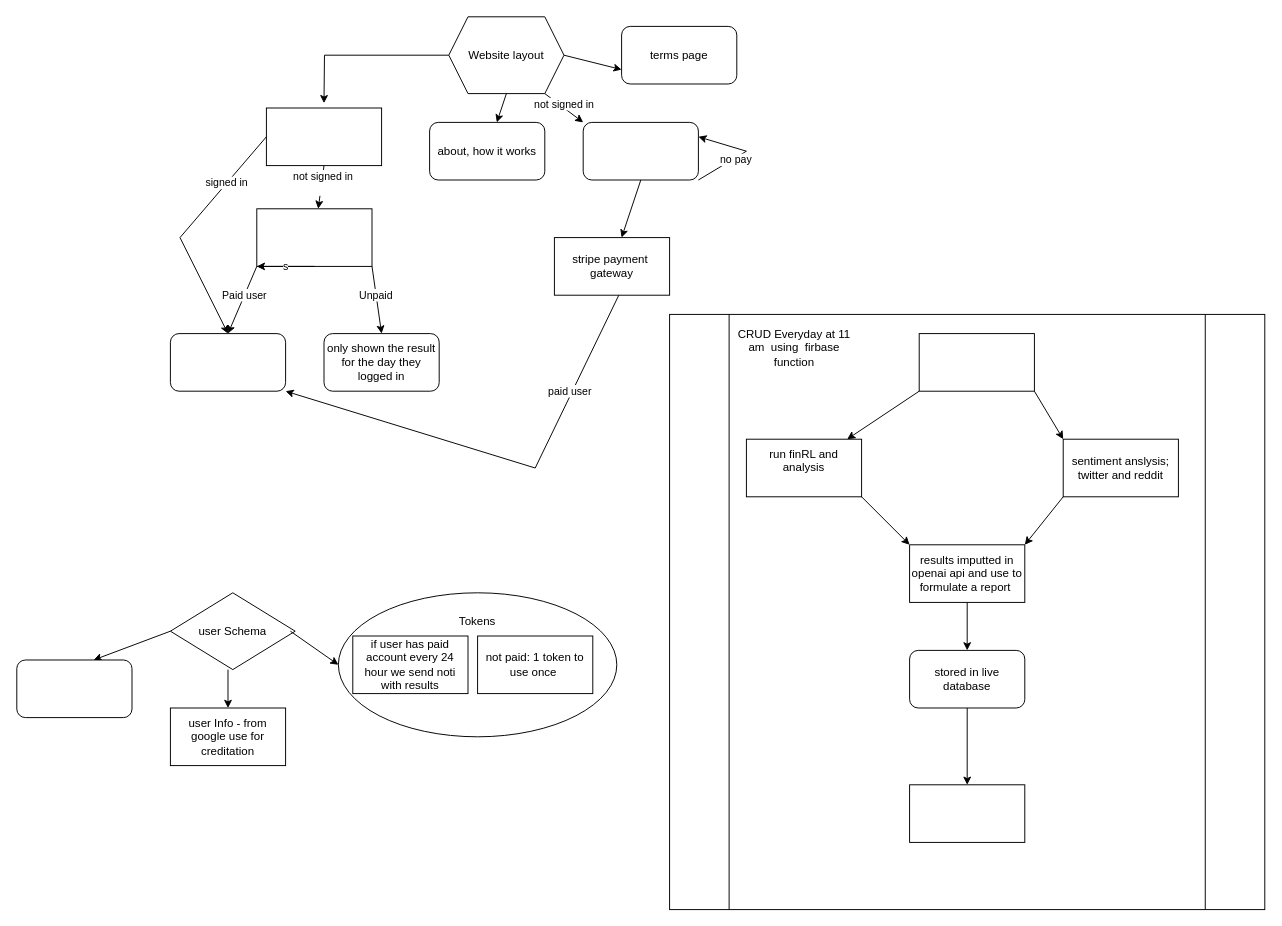
The diagram is 1282 pixels wide and 926 high, and some of its shapes have lost their labels. The shapes that lost their labels are listed below. From the top down, each one's centre as x and y in pixels, then its label:
At point 323,136: "results page".
At point 640,150: "pay page for pay info".
At point 314,237: "sign in prompt".
At point 227,362: "daily results max 1 week data hold on databse for analyis report".
At point 976,362: "stock name".
At point 74,688: "initial report".
At point 967,813: "update sent to frontend".
